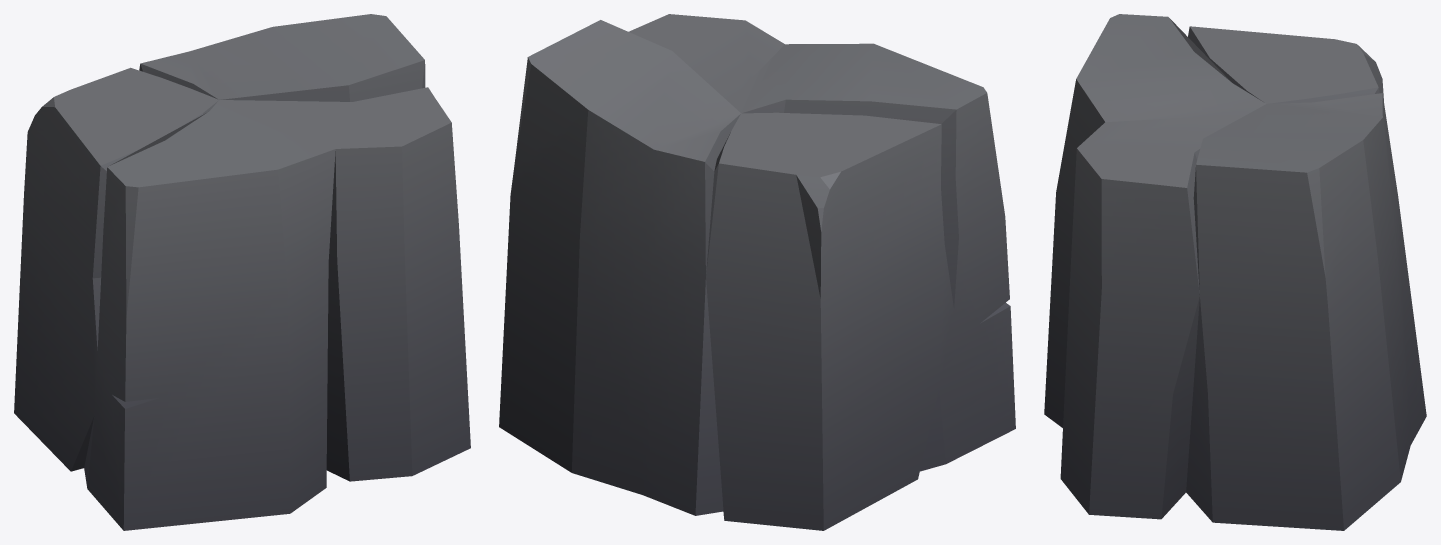
File: BigRock_04.fbx
The picture shows the model from 3 angles, left to right: view 1: azimuth 30°, elevation 25°; view 2: azimuth 150°, elevation 25°; view 3: azimuth 270°, elevation 25°; orthographic projection. The views are drawn at different scales.
Parts seen in each view (by area): view 1: BigRock_04_LOD0; view 2: BigRock_04_LOD0; view 3: BigRock_04_LOD0.
Boxes of the visible parts, bbox=[...] form: BigRock_04_LOD0: bbox=[14, 14, 470, 530]; BigRock_04_LOD0: bbox=[499, 14, 1015, 530]; BigRock_04_LOD0: bbox=[1044, 14, 1426, 530].
Size of what is drawn, in the model's own units: 4.78 by 4.21 by 4.13.
